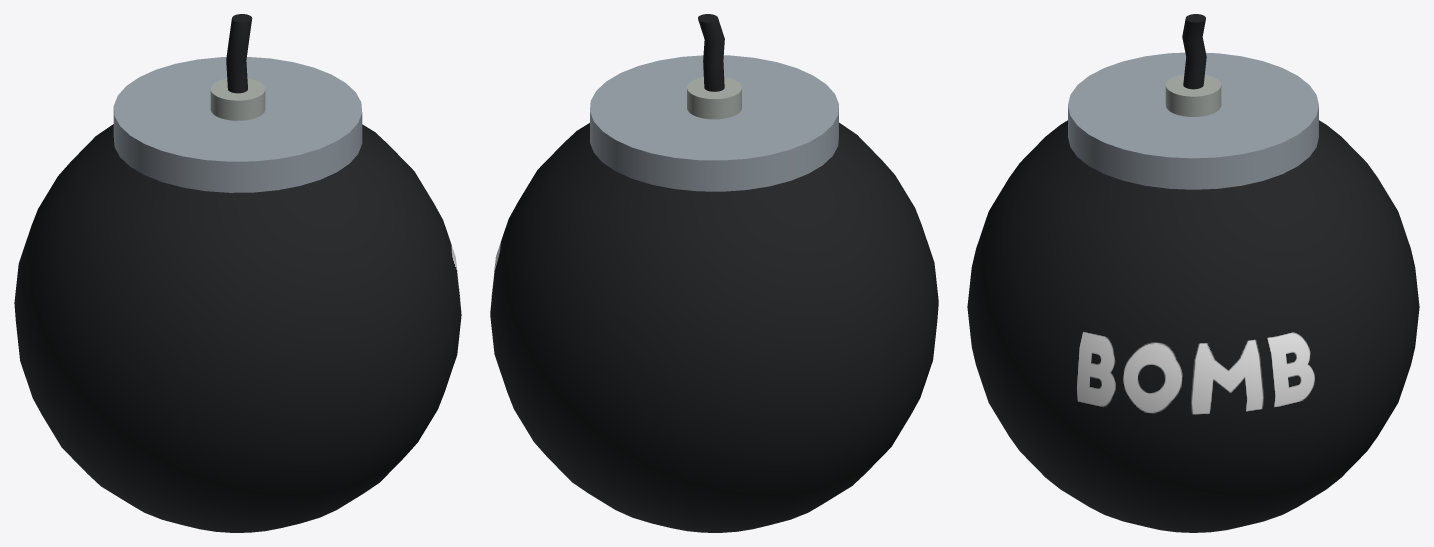
Rendered from bomb.fbx.
The picture shows the model from 3 angles, left to right: view 1: azimuth 30°, elevation 25°; view 2: azimuth 150°, elevation 25°; view 3: azimuth 270°, elevation 25°; orthographic projection.
Visible parts, largest first — view 1: Sphere; view 2: Sphere; view 3: Sphere.
Boxes of the visible parts, bbox=[...] form: Sphere: bbox=[14, 14, 461, 532]; Sphere: bbox=[490, 14, 938, 532]; Sphere: bbox=[967, 14, 1419, 532].
Bounding box in the file's own units: 100 × 121 × 100.
